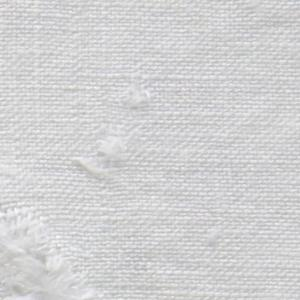Damage: (71, 88, 155, 189), (1, 207, 64, 300)
